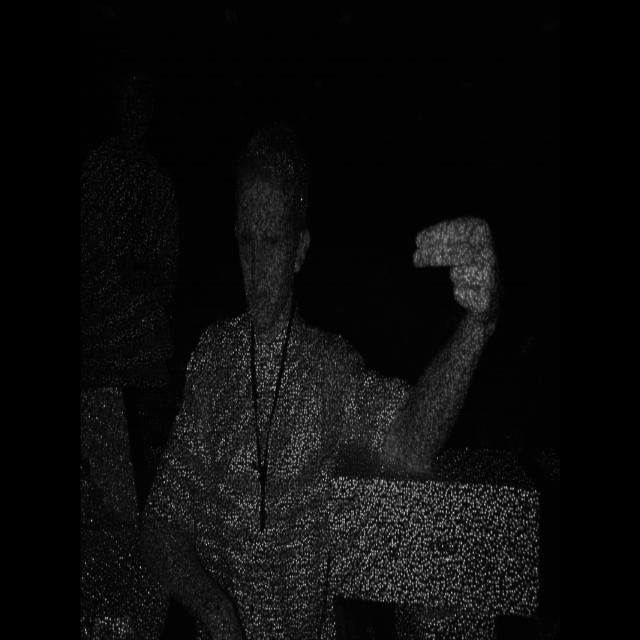H: (402, 192, 508, 342)
